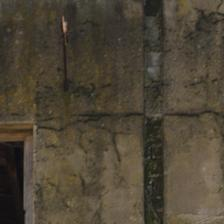Crack: (30, 81, 113, 143), (75, 52, 133, 73)
